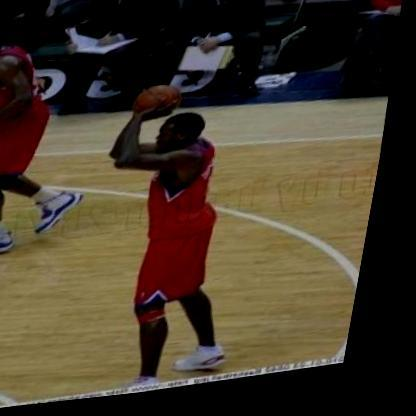basketball: (135, 86, 184, 124)
